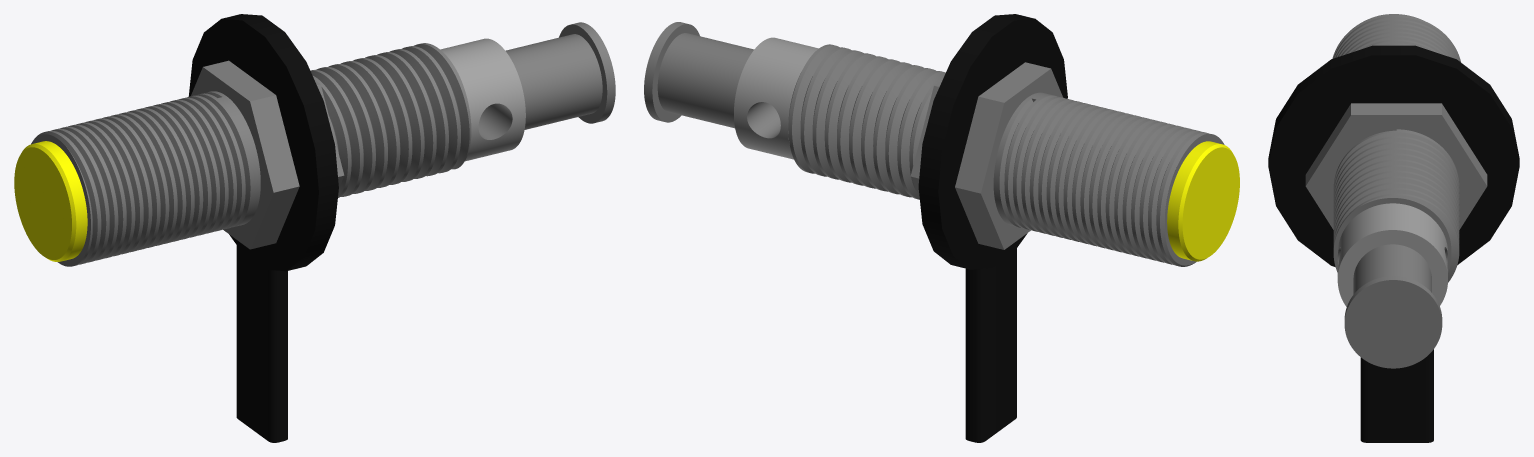
File: Proxy-Sensor.FBX
3 renders of one model, left to right at view 1: azimuth 30°, elevation 25°; view 2: azimuth 150°, elevation 25°; view 3: azimuth 270°, elevation 25°, orthographic. The views are drawn at different scales.
Parts seen in each view (by area): view 1: Saliente-Extruir9, Box001, Box002; view 2: Saliente-Extruir9, Box001, Box002; view 3: Saliente-Extruir9, Box001, Box002.
Part boxes in pixels (left/top/right/bottom): Saliente-Extruir9: left=14, top=22, right=615, bottom=266; Box001: left=188, top=14, right=338, bottom=271; Box002: left=236, top=245, right=287, bottom=442; Saliente-Extruir9: left=644, top=22, right=1239, bottom=266; Box001: left=918, top=14, right=1067, bottom=269; Box002: left=965, top=248, right=1016, bottom=442; Saliente-Extruir9: left=1305, top=14, right=1487, bottom=368; Box001: left=1268, top=45, right=1519, bottom=266; Box002: left=1360, top=349, right=1433, bottom=442.
Bounding box in the file's own units: 7.6 × 5.36 × 3.14.
